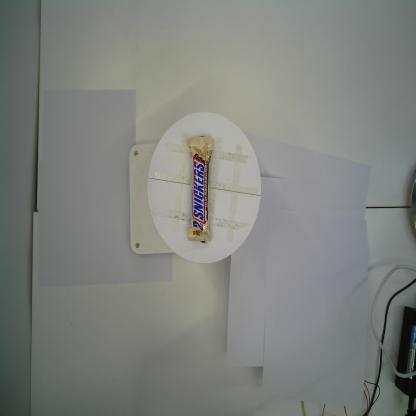Chocolate: (184, 132, 218, 246)
